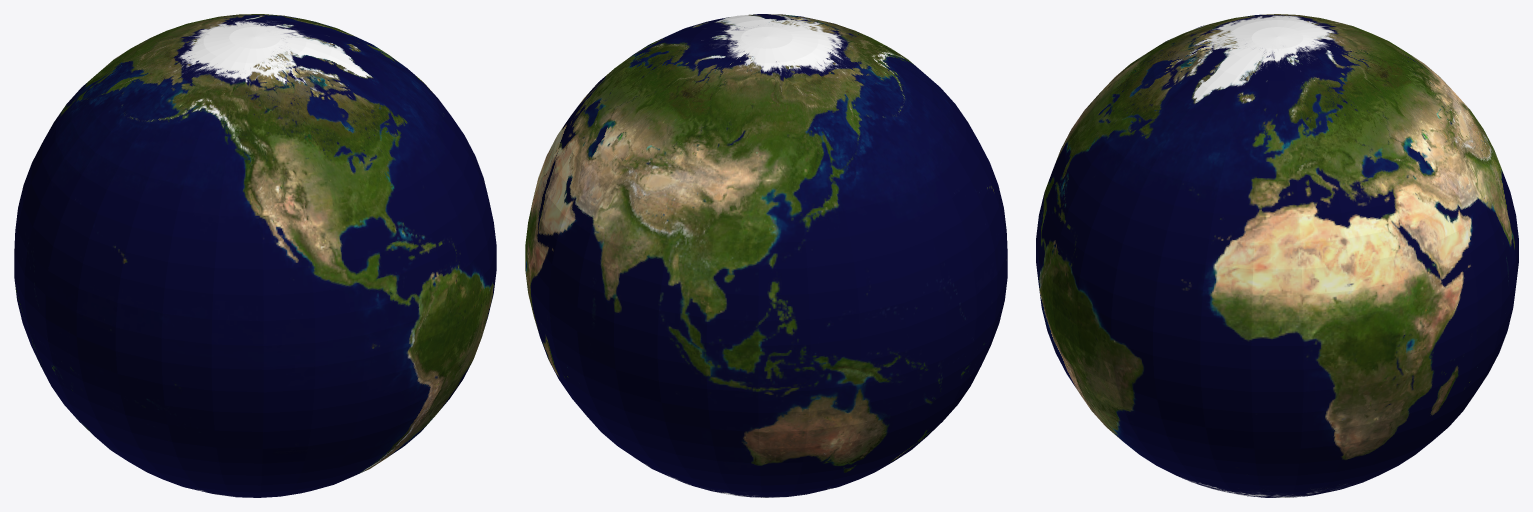
The model's file is earth.obj.
The picture shows the model from 3 angles, left to right: view 1: azimuth 30°, elevation 25°; view 2: azimuth 150°, elevation 25°; view 3: azimuth 270°, elevation 25°; orthographic projection.
Parts seen in each view (by area): view 1: Grid; view 2: Grid; view 3: Grid.
Part boxes in pixels (bbox=[...]): Grid: bbox=[14, 14, 496, 497]; Grid: bbox=[525, 14, 1007, 497]; Grid: bbox=[1036, 14, 1518, 497].
Bounding box in the file's own units: 1.99 × 2 × 1.99.
1 material, 1 textured.
